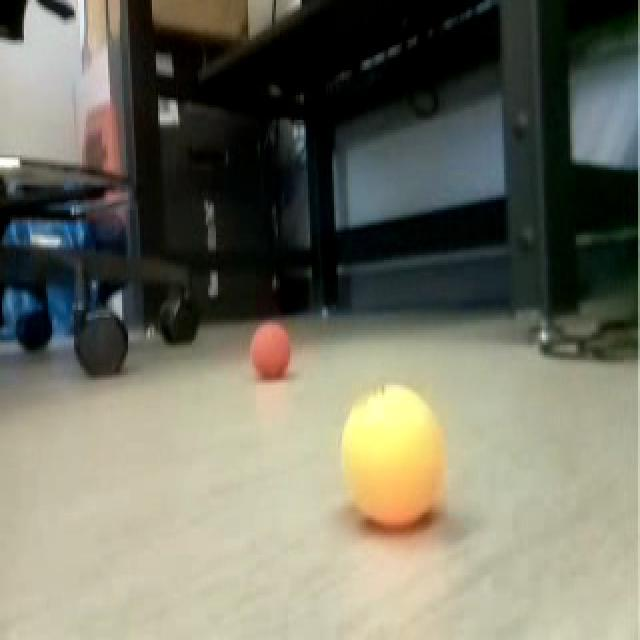oball: (339, 384, 451, 528), (248, 320, 290, 383)
